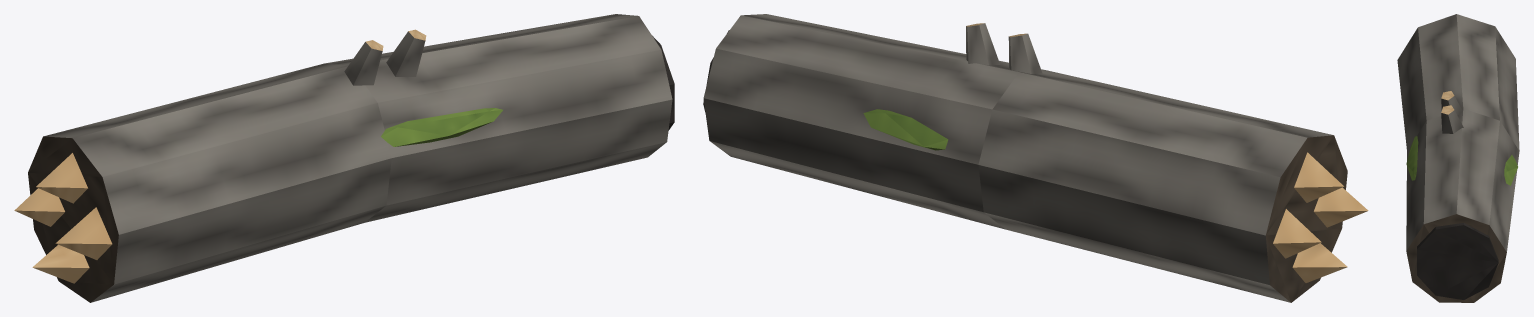
Rendered from SM_FallenLog02_Hollow.fbx.
3 renders of one model, left to right at view 1: azimuth 30°, elevation 25°; view 2: azimuth 150°, elevation 25°; view 3: azimuth 270°, elevation 25°, orthographic. The views are drawn at different scales.
Parts seen in each view (by area): view 1: SM_FallenLog02_Hollow; view 2: SM_FallenLog02_Hollow; view 3: SM_FallenLog02_Hollow.
Part boxes in pixels (<box>): SM_FallenLog02_Hollow: <box>14,14,674,302</box>; SM_FallenLog02_Hollow: <box>703,14,1368,302</box>; SM_FallenLog02_Hollow: <box>1397,14,1519,302</box>.
Size of the model in its own units: 10.88 by 3.11 by 2.74.
Materials: 1 (1 with a texture image).
